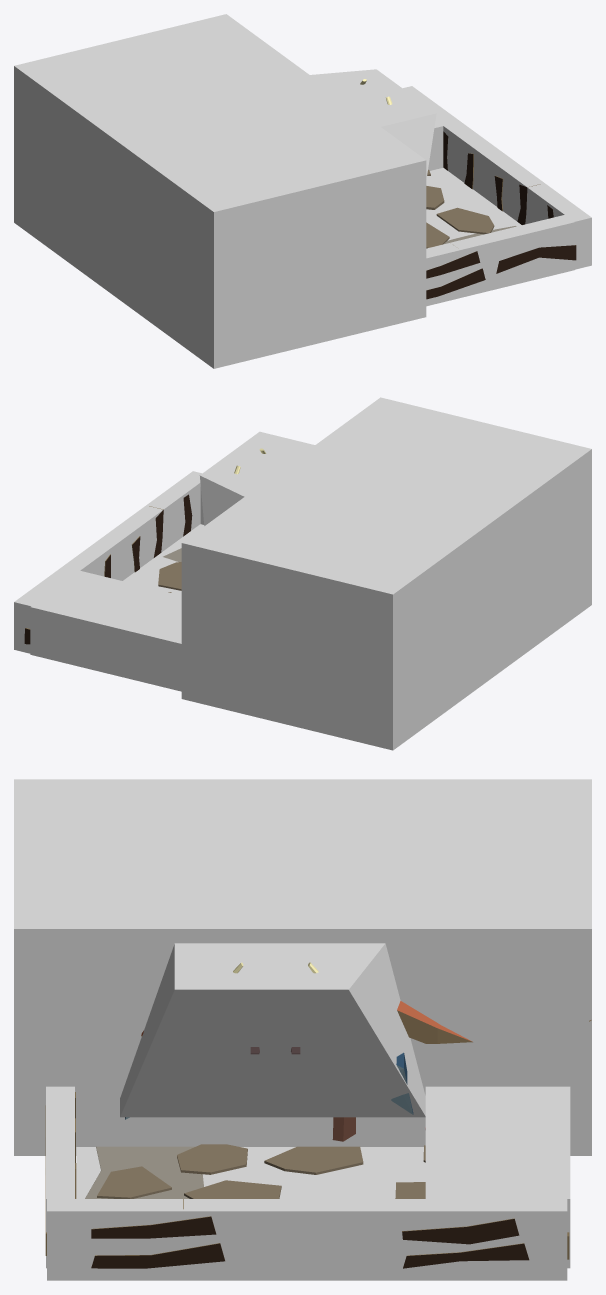
Rendered from cattle-farm.glb.
3 views of the same model, one above another, from view 1: azimuth 30°, elevation 25°; view 2: azimuth 150°, elevation 25°; view 3: azimuth 270°, elevation 25° (orthographic). The views are drawn at different scales.
Visible parts, largest first — view 1: Cube.064, Cube.077, Cube.078, Cube.065, Cube.067, Cube.044, Cube.010, Cube.013, Cube.079, Cube.012; view 2: Cube.064, Cube.079, Cube.077, Cube.065, Cube.067, Cube.044; view 3: Cube.064, Cube.065, Cube.077, Cube.079, Cube.067, Cube.045, Cube.009, Cube.078, Cube.021, Cube.024, Cube.020, Cube.037 (+3 smaller).
Part boxes in pixels (x1=…): Cube.064: x1=14, y1=14, x2=426, y2=368; Cube.077: x1=403, y1=86, x2=591, y2=269; Cube.078: x1=426, y1=215, x2=574, y2=306; Cube.065: x1=310, y1=69, x2=436, y2=179; Cube.067: x1=426, y1=167, x2=521, y2=240; Cube.044: x1=436, y1=207, x2=494, y2=234; Cube.010: x1=496, y1=245, x2=576, y2=273; Cube.013: x1=426, y1=268, x2=485, y2=299; Cube.079: x1=428, y1=120, x2=443, y2=170; Cube.012: x1=426, y1=251, x2=480, y2=278; Cube.064: x1=181, y1=397, x2=591, y2=750; Cube.079: x1=30, y1=570, x2=181, y2=691; Cube.077: x1=14, y1=471, x2=201, y2=653; Cube.065: x1=199, y1=431, x2=314, y2=525; Cube.067: x1=123, y1=524, x2=204, y2=595; Cube.044: x1=158, y1=562, x2=181, y2=590; Cube.064: x1=14, y1=779, x2=591, y2=1155; Cube.065: x1=120, y1=943, x2=425, y2=1117; Cube.077: x1=47, y1=1199, x2=567, y2=1280; Cube.079: x1=425, y1=1086, x2=570, y2=1268; Cube.067: x1=76, y1=1147, x2=425, y2=1198; Cube.045: x1=177, y1=1144, x2=363, y2=1174; Cube.009: x1=85, y1=1146, x2=239, y2=1198; Cube.078: x1=46, y1=1086, x2=74, y2=1268; Cube.021: x1=91, y1=1243, x2=225, y2=1268; Cube.024: x1=402, y1=1218, x2=519, y2=1244; Cube.020: x1=91, y1=1216, x2=216, y2=1238; Cube.037: x1=97, y1=1166, x2=171, y2=1198.
Size of the model in its own units: 9.78 by 3.76 by 8.67.
